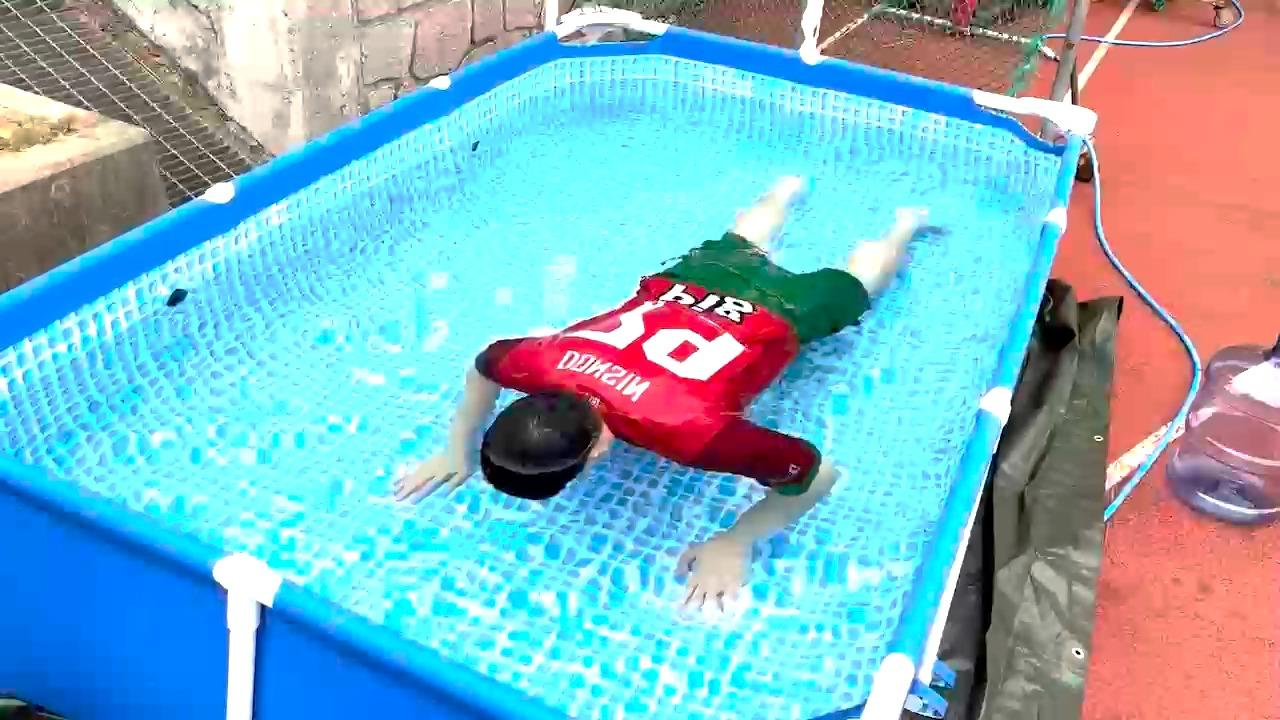Drowning: (375, 163, 967, 612)
